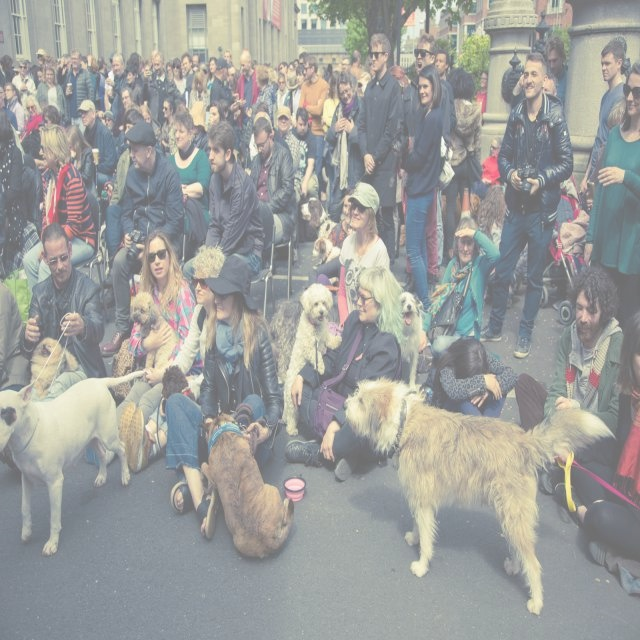pessoa: (161, 250, 287, 544), (469, 48, 578, 360), (82, 230, 205, 470), (283, 262, 407, 484), (513, 264, 626, 496), (118, 243, 226, 474), (550, 312, 640, 570), (100, 122, 186, 356), (18, 220, 108, 404), (582, 60, 640, 328), (397, 29, 451, 300), (182, 120, 266, 282), (22, 123, 96, 299), (418, 215, 500, 355), (356, 32, 402, 276), (404, 63, 444, 313), (328, 181, 390, 338), (443, 65, 482, 264), (247, 115, 300, 252), (580, 40, 626, 196), (432, 337, 518, 418), (166, 110, 212, 258), (0, 279, 32, 487), (248, 114, 296, 250), (324, 68, 364, 226), (583, 93, 631, 215), (506, 35, 572, 120), (0, 109, 28, 284), (0, 46, 115, 86), (298, 54, 329, 202), (290, 105, 320, 244), (108, 108, 147, 206), (76, 99, 117, 190), (141, 50, 184, 134), (233, 49, 260, 168), (321, 68, 342, 213), (64, 124, 99, 200), (209, 54, 244, 130), (179, 44, 242, 86), (276, 104, 302, 205), (320, 186, 360, 250), (66, 48, 94, 136), (35, 63, 69, 126), (471, 135, 504, 198), (477, 183, 508, 250), (318, 46, 374, 82), (104, 51, 130, 125), (246, 66, 276, 130), (11, 58, 36, 124), (220, 85, 240, 166), (120, 63, 144, 120), (188, 100, 212, 157), (18, 94, 44, 144), (4, 82, 26, 137), (119, 86, 152, 120), (188, 66, 212, 112), (26, 121, 48, 171), (290, 63, 306, 128), (95, 78, 114, 130), (161, 96, 177, 153), (126, 52, 154, 82), (250, 56, 299, 72), (4, 83, 20, 131), (474, 70, 489, 114), (434, 48, 452, 84), (274, 72, 290, 110), (207, 99, 226, 130), (388, 64, 409, 92), (41, 104, 62, 131), (172, 57, 186, 96), (284, 71, 297, 105), (147, 119, 162, 144), (320, 176, 329, 203), (254, 100, 270, 115), (356, 82, 366, 100), (298, 52, 310, 66), (164, 61, 173, 78), (175, 101, 188, 112), (268, 72, 278, 84), (29, 86, 38, 98)
